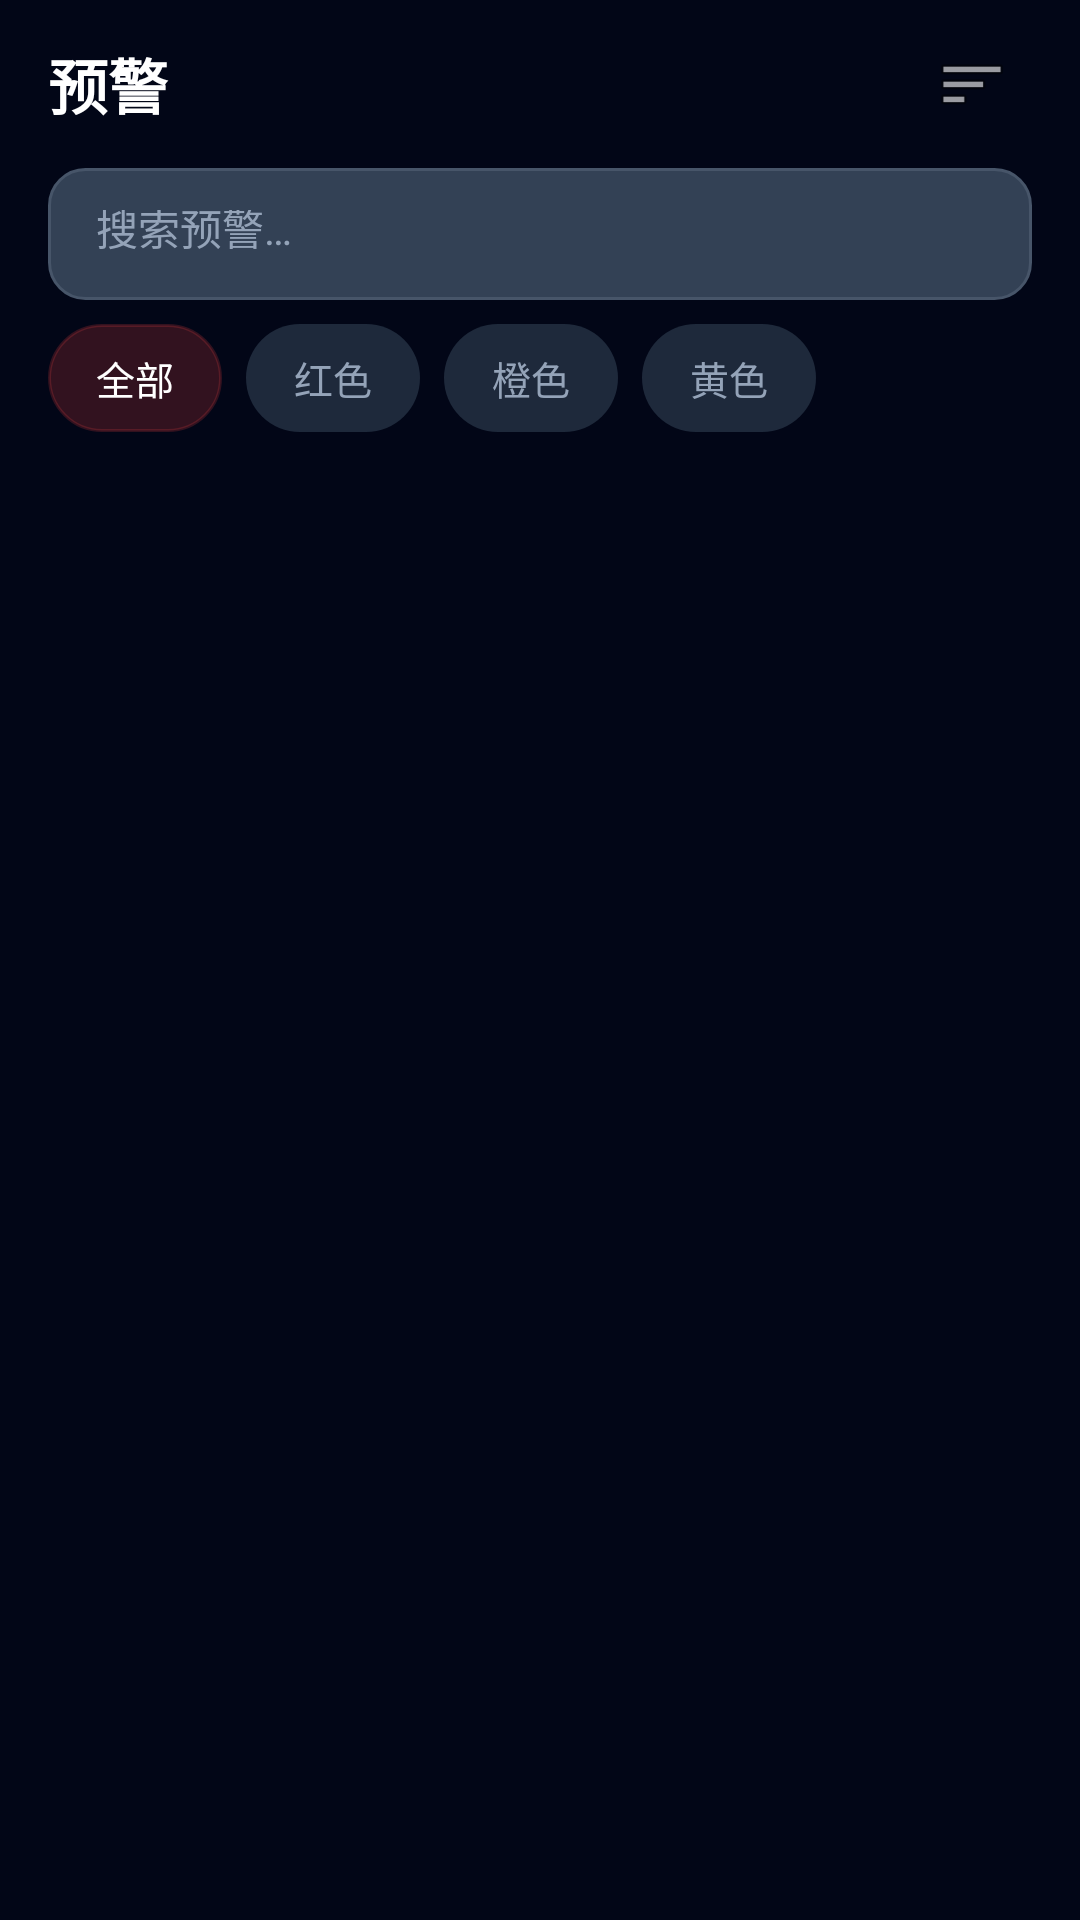

Named icons in this screenshot (1080px×1920px) and their bounding boxes, (x1, y1, x2, y2):
Filter: (943, 66, 1001, 103)
